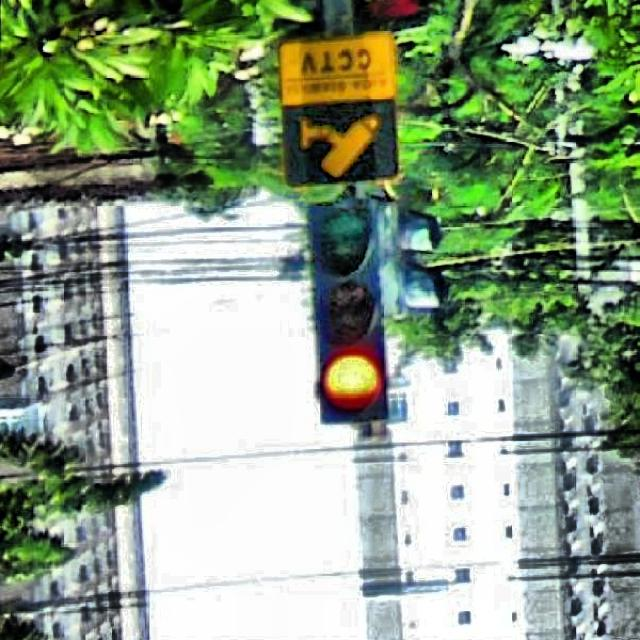red: (306, 204, 388, 423)
